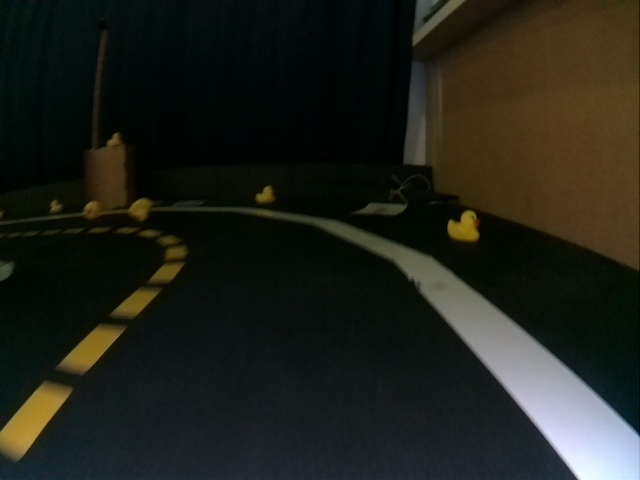Duckie: (446, 211, 481, 241), (131, 200, 152, 219), (255, 186, 276, 204), (82, 202, 101, 218), (107, 133, 122, 145), (49, 200, 61, 210)
QR code: (355, 202, 410, 217)
